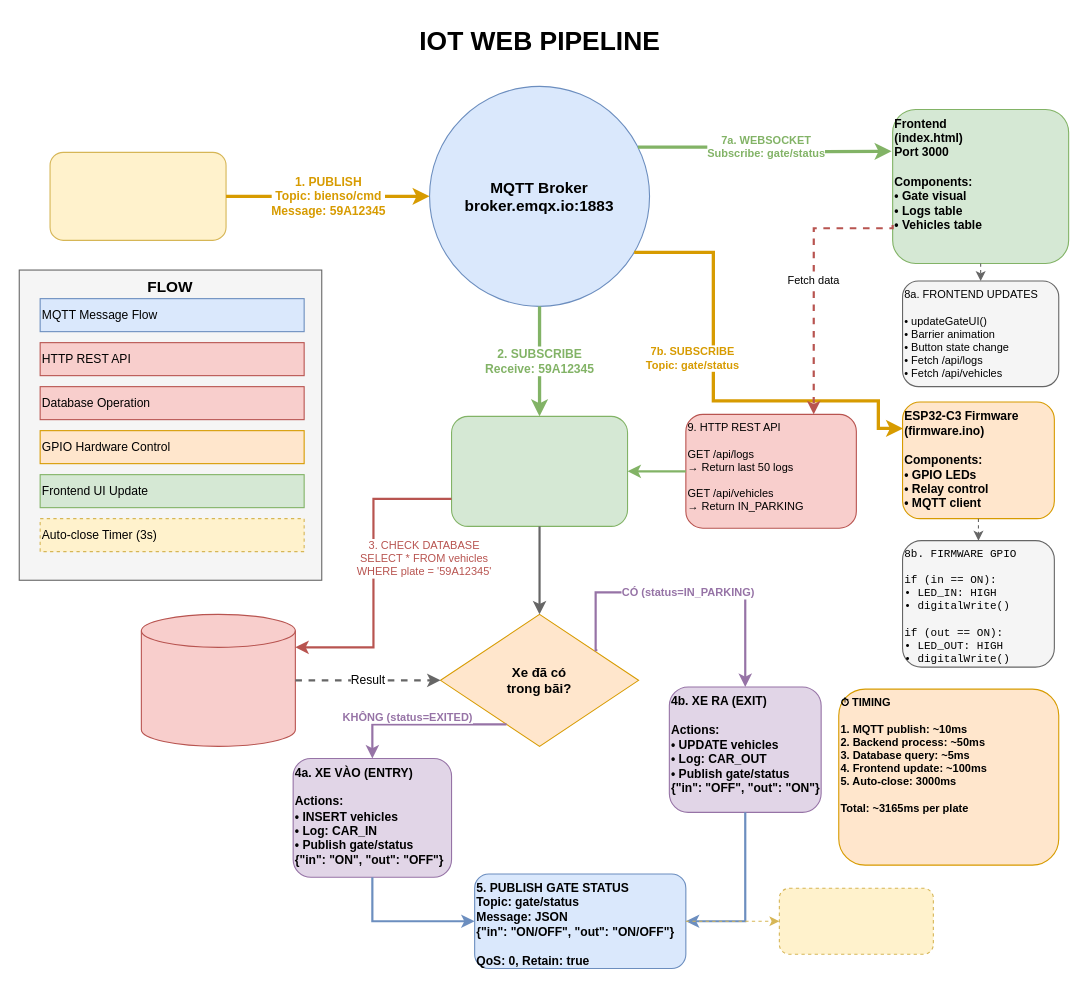
Image size: 1088x988. Some labels were removed from this diagram. Here are the shapes that lost their labels. From the top down, the box of each, then its label:
(49, 151, 226, 240): Flask AI Webcam (run_webcam_flask.py) Port 5000
(450, 415, 628, 526): Backend Server (server.js) Port 3000 Node.js + Express
(140, 613, 295, 746): SQLite Database gate_system.db Tables: - vehicles - logs
(778, 887, 933, 954): 6. AUTO-CLOSE TIMER setTimeout(3000ms) → Publish OFF
